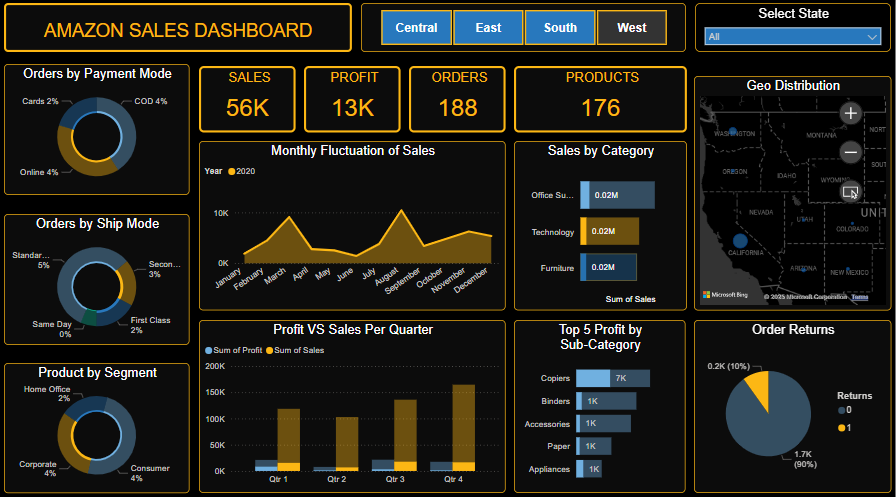

The page's visual inventory and layout, read from the dashboard file:
{"tool":"powerbi","page":{"name":"Page 1","canvas":[1280,720],"ordinal":0},"visuals":[{"type":"clusteredBarChart","title":"Sales by Category","fields":{"Category":["Sheet1.Category"],"Y":["Sum(Sheet1.Sales)"]},"box":[735,203.3,246.7,241.7],"z":0},{"type":"clusteredBarChart","title":"Top 5 Profit by Sub-Category","fields":{"Y":["Sum(Sheet1.Profit)"],"Category":["Sheet1.Sub-Category"]},"box":[735,458.3,245,246.7],"z":1000},{"type":"donutChart","title":"Orders by Payment Mode","fields":{"Category":["Sheet1.Payment Mode"],"Y":["CountNonNull(Sheet1.Order ID)"]},"box":[6.7,93.3,265,186.7],"z":2000},{"type":"donutChart","title":"Orders by Ship Mode","fields":{"Y":["CountNonNull(Sheet1.Order ID)"],"Category":["Sheet1.Ship Mode"]},"box":[6.7,306.7,265,186.7],"z":3000},{"type":"donutChart","title":"Product by Segment","fields":{"Category":["Sheet1.Segment"],"Y":["CountNonNull(Sheet1.Product ID)"]},"box":[7.1,520.2,265,185.7],"z":4000},{"type":"map","title":"Geo Distribution","fields":{"Category":["Sheet1.State"],"Size":["Sum(Sheet1.Sales)"]},"box":[993.3,110,281.7,335],"z":5000},{"type":"pieChart","title":"Order Returns","fields":{"Category":["Sheet1.Returns"],"Y":["CountNonNull(Sheet1.Order ID)"]},"box":[993.3,458.3,281.7,246.7],"z":6000},{"type":"stackedAreaChart","title":"Monthly Fluctuation of Sales","fields":{"Category":["Sheet1.Order Date.Variation.Date Hierarchy.Month"],"Y":["Sum(Sheet1.Sales)"],"Series":["Sheet1.Order Date.Variation.Date Hierarchy.Year"]},"box":[285,203.3,438.3,241.7],"z":7000},{"type":"clusteredColumnChart","title":"Profit VS Sales Per Quarter","fields":{"Category":["Sheet1.Order Date.Variation.Date Hierarchy.Quarter"],"Y":["Sum(Sheet1.Profit)","Sum(Sheet1.Sales)"]},"box":[285,458.3,438.3,246.7],"z":8000},{"type":"slicer","fields":{"Values":["Sheet1.Region"]},"box":[517.1,5.7,464.3,70],"z":9000},{"type":"slicer","title":"Select State","fields":{"Values":["Sheet1.State"]},"box":[994,5.3,280,70],"z":10000},{"type":"card","title":"SALES","fields":{"Values":["Sum(Sheet1.Sales)"]},"box":[285,95,138.3,95],"z":11000},{"type":"card","title":"PROFIT","fields":{"Values":["Sum(Sheet1.Profit)"]},"box":[435,95,138.3,95],"z":12000},{"type":"card","title":"ORDERS","fields":{"Values":["CountNonNull(Sheet1.Order ID)"]},"box":[585,95,138.3,95],"z":13000},{"type":"card","title":"PRODUCTS","fields":{"Values":["Count(Sheet1.Product ID)"]},"box":[735,95,246.7,95],"z":14000},{"type":"textbox","box":[7.1,5.7,497.1,70],"z":15000}]}

Visuals, with their boxes in screenshot pixels (x1, y1, x2, y2), scaled from the page's 1280x720 canvas onto the 896x497 screenshot:
"Sales by Category" clusteredBarChart: <region>514, 140, 687, 307</region>
"Top 5 Profit by Sub-Category" clusteredBarChart: <region>514, 316, 686, 487</region>
"Orders by Payment Mode" donutChart: <region>5, 64, 190, 193</region>
"Orders by Ship Mode" donutChart: <region>5, 212, 190, 341</region>
"Product by Segment" donutChart: <region>5, 359, 190, 487</region>
"Geo Distribution" map: <region>695, 76, 892, 307</region>
"Order Returns" pieChart: <region>695, 316, 892, 487</region>
"Monthly Fluctuation of Sales" stackedAreaChart: <region>200, 140, 506, 307</region>
"Profit VS Sales Per Quarter" clusteredColumnChart: <region>200, 316, 506, 487</region>
slicer - Sheet1.Region: <region>362, 4, 687, 52</region>
"Select State" slicer: <region>696, 4, 892, 52</region>
"SALES" card: <region>200, 66, 296, 131</region>
"PROFIT" card: <region>304, 66, 401, 131</region>
"ORDERS" card: <region>410, 66, 506, 131</region>
"PRODUCTS" card: <region>514, 66, 687, 131</region>
textbox: <region>5, 4, 353, 52</region>
